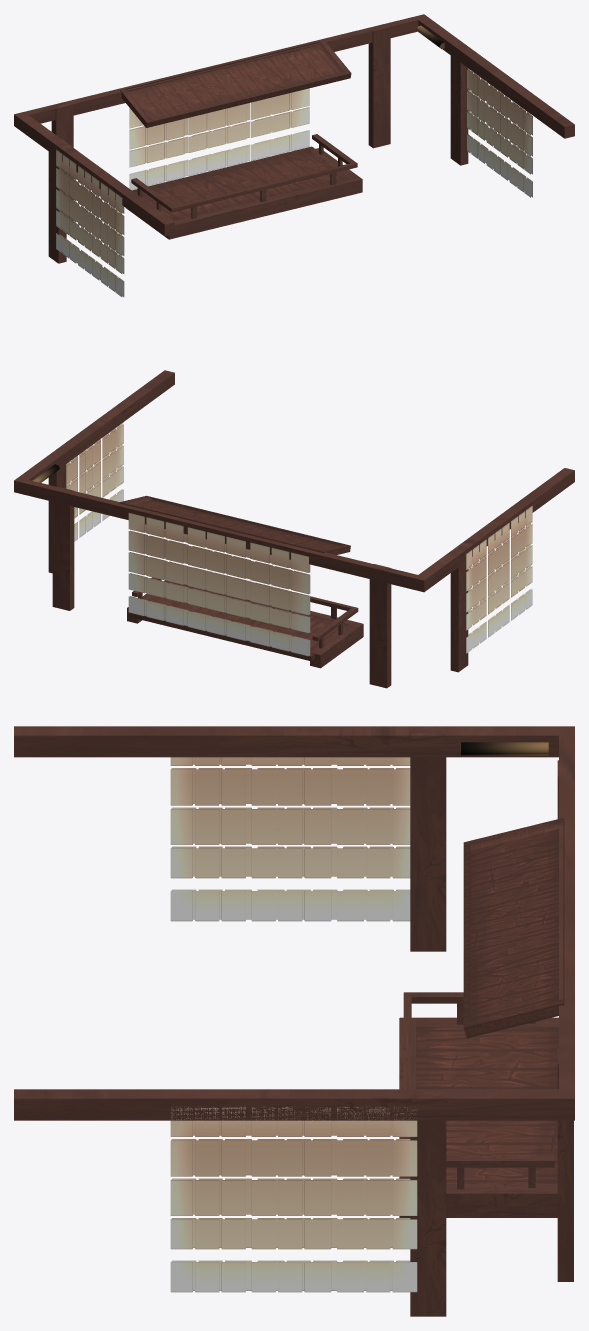
File: wall1.FBX
The picture shows the model from 3 angles, top to bottom: view 1: azimuth 30°, elevation 25°; view 2: azimuth 150°, elevation 25°; view 3: azimuth 270°, elevation 25°; orthographic projection. The views are drawn at different scales.
Visible parts, largest first — view 1: C-Ext014, C-Ext015, Box102, Box080, Box083, Box077, Box075, Box084, Box074, Box076; view 2: C-Ext014, C-Ext015, Box102, Box080, Box077, Box076, Box074, Box089, Box075; view 3: C-Ext014, C-Ext015, Box102, Box080, Box074, Box075, Box091, Box077, Box090, Cylinder018, Box084, Box089 (+1 smaller).
Part boxes in pixels (x1,y1,x2,y2): C-Ext014: (56, 67, 532, 296); C-Ext015: (14, 14, 574, 236); Box102: (120, 40, 351, 127); Box080: (132, 146, 346, 220); Box083: (169, 176, 362, 239); Box077: (368, 27, 390, 148); Box075: (450, 39, 468, 165); Box084: (171, 163, 356, 212); Box074: (48, 137, 66, 263); Box076: (51, 104, 73, 221); C-Ext014: (66, 422, 532, 656); C-Ext015: (14, 370, 574, 592); Box102: (119, 495, 350, 554); Box080: (127, 583, 347, 661); Box077: (52, 486, 74, 610); Box076: (369, 564, 391, 688); Box074: (450, 546, 468, 672); Box089: (310, 624, 363, 668); Box075: (48, 448, 66, 573); C-Ext014: (170, 757, 417, 1292); C-Ext015: (14, 726, 574, 1120); Box102: (463, 818, 564, 1038); Box080: (416, 1027, 558, 1183); Box074: (410, 726, 446, 951); Box075: (410, 1091, 446, 1316); Box091: (400, 1183, 557, 1217); Box077: (557, 1048, 573, 1281); Box090: (446, 1156, 554, 1167); Cylinder018: (460, 742, 548, 755); Box084: (403, 992, 411, 1138); Box089: (400, 1017, 558, 1027).
Size of the model in its own units: 1110 by 306 by 707.
Materials: 4 (4 with a texture image).
